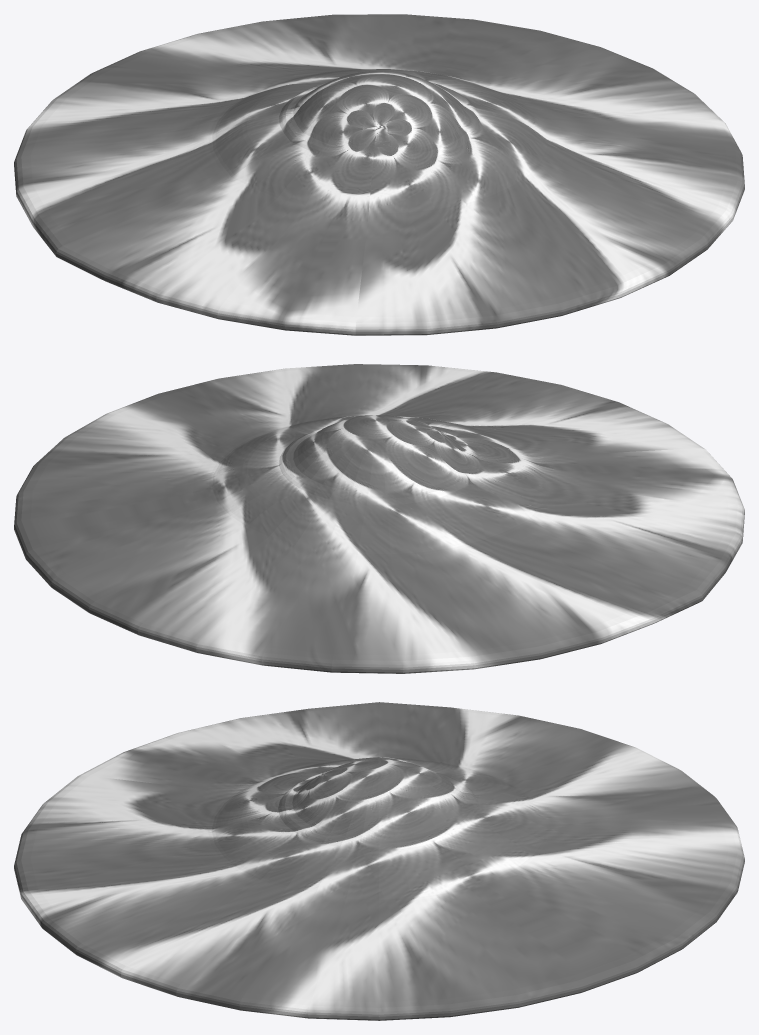
File: ovni2.obj
3 renders of one model, top to bottom at view 1: azimuth 30°, elevation 25°; view 2: azimuth 150°, elevation 25°; view 3: azimuth 270°, elevation 25°, orthographic.
Parts seen in each view (by area): view 1: Mesh_Mesh_ShapeIndexedFaceSet.000; view 2: Mesh_Mesh_ShapeIndexedFaceSet.000; view 3: Mesh_Mesh_ShapeIndexedFaceSet.000.
Part boxes in pixels (left/top/right/bottom): Mesh_Mesh_ShapeIndexedFaceSet.000: left=14, top=14, right=744, bottom=335; Mesh_Mesh_ShapeIndexedFaceSet.000: left=14, top=364, right=744, bottom=673; Mesh_Mesh_ShapeIndexedFaceSet.000: left=14, top=702, right=744, bottom=1020.
Size of the model in its own units: 6.47 by 1.68 by 6.41.
1 material, 1 textured.
